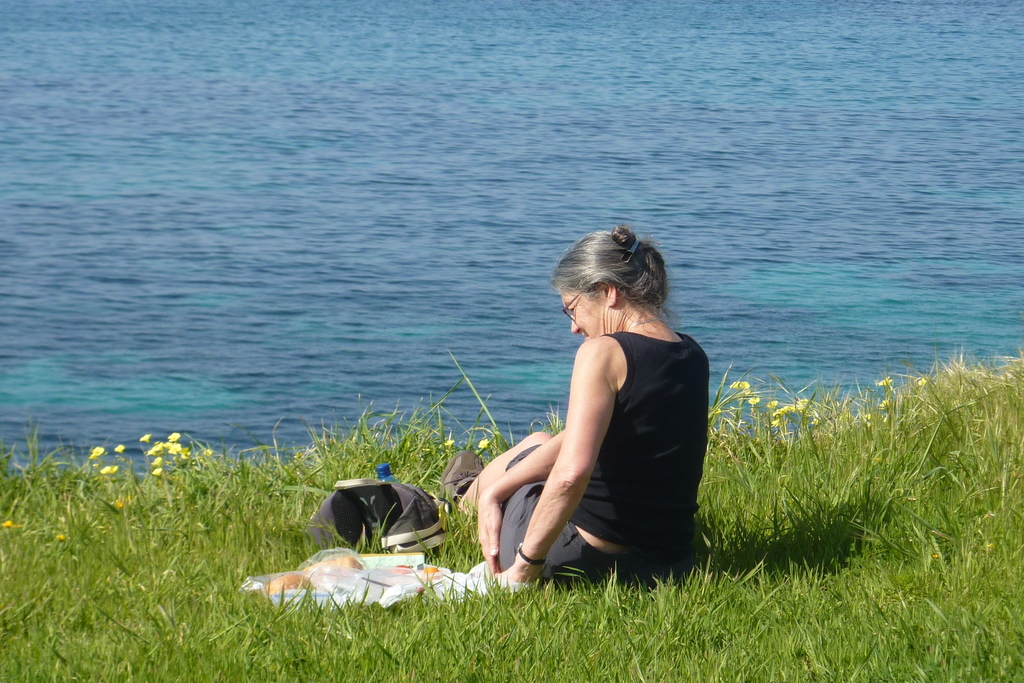Footwear: (433, 442, 488, 517)
